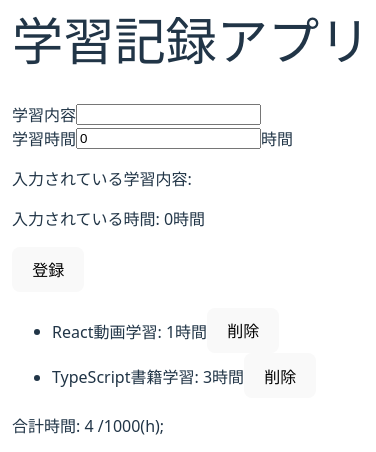
Test case: App › 削除ボタンを押すと記録が1つ減る
Click the button "削除" in the row of "React動画学習": click(243, 330) [207, 308, 279, 353]
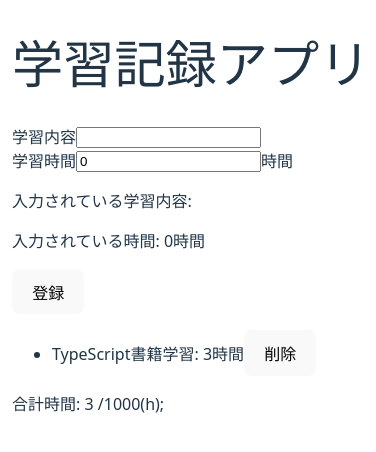
Now the number of list items is 1, box [52, 330, 316, 376]
